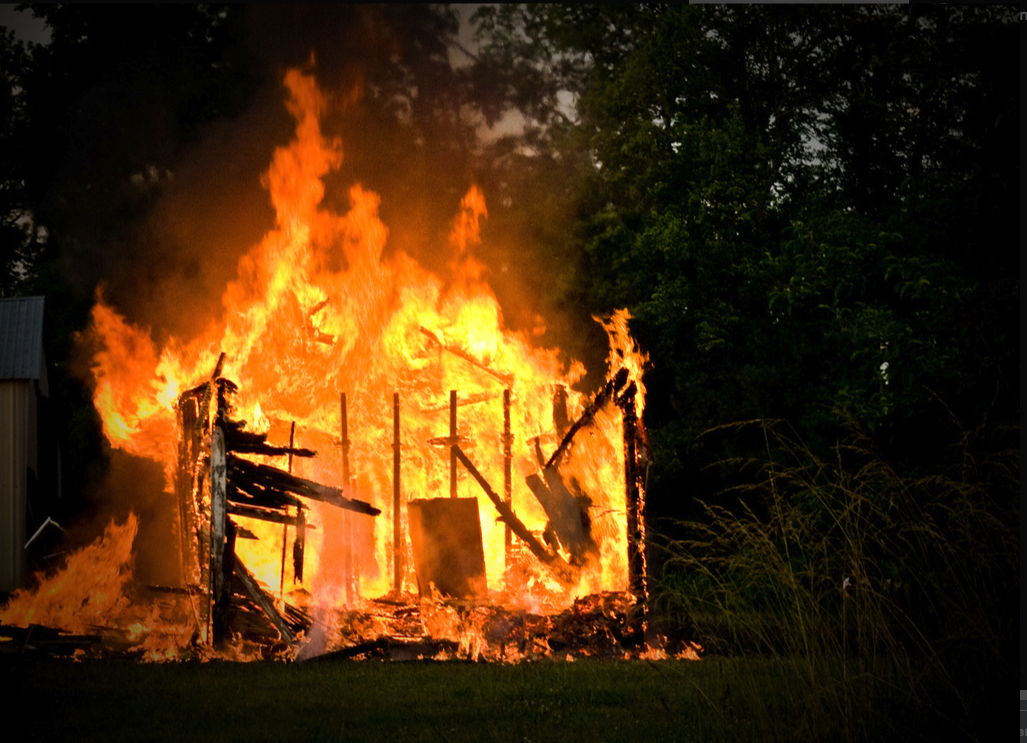fire: (74, 128, 663, 662)
